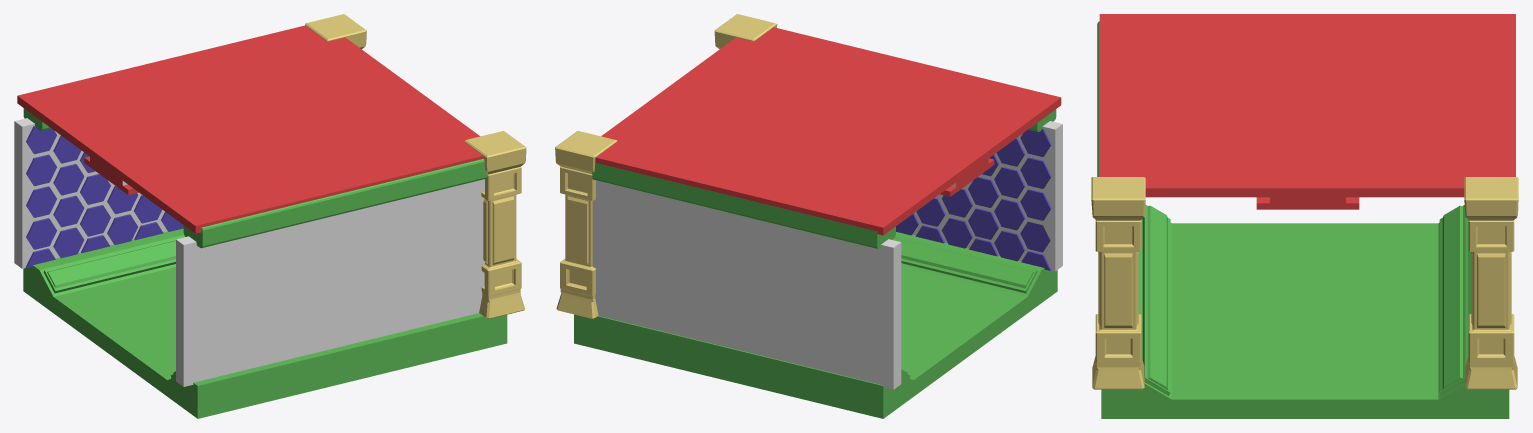
Rendered from kisakoridor.fbx.
3 views of the same model, side by side, from view 1: azimuth 30°, elevation 25°; view 2: azimuth 150°, elevation 25°; view 3: azimuth 270°, elevation 25° (orthographic). The views are drawn at different scales.
Parts seen in each view (by area): view 1: Cube.012; view 2: Cube.012; view 3: Cube.012.
Boxes of the visible parts, box(x1,y1,x2,y2) form: Cube.012: box(14, 14, 526, 418); Cube.012: box(555, 14, 1062, 418); Cube.012: box(1091, 14, 1518, 418).
Size of the model in its own units: 2470 by 1381 by 2337.
